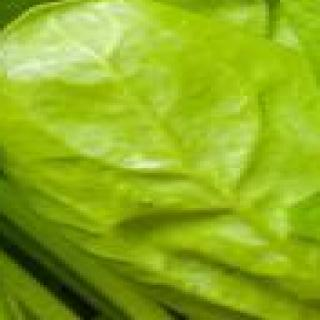spinach: (0, 2, 320, 320)
